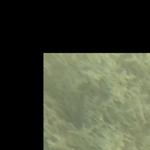dead: (44, 53, 148, 148)
